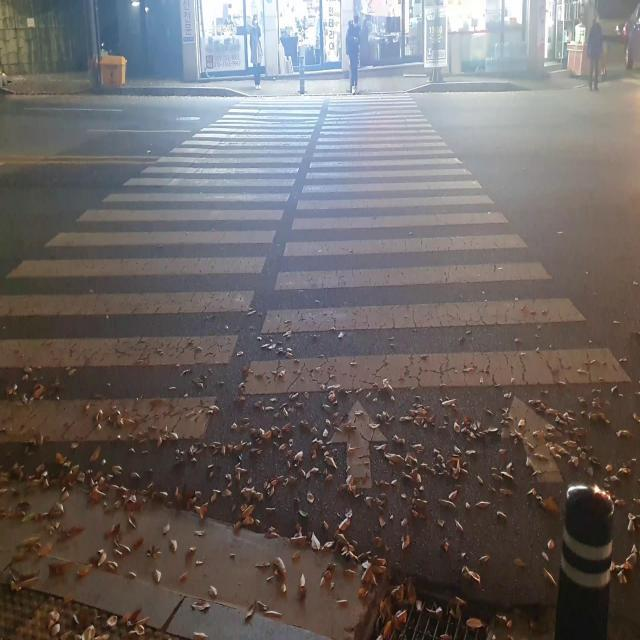crosswalk: (0, 90, 638, 500)
